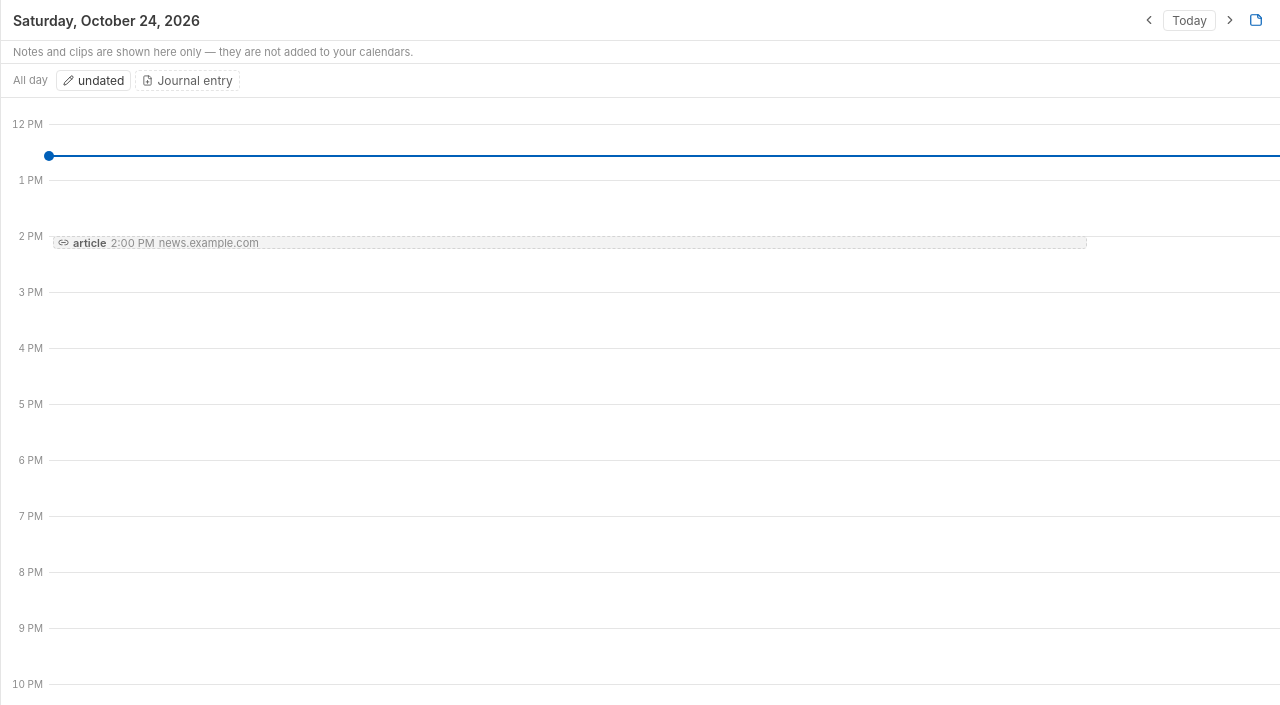
Scenario: DayTimeline note & clip markers › shows the local-only legend and toggles markers off and on
This screenshot has width=1280, height=705.
(page scrolled)
Check: the text with test id "day-timeline-legend" reads "Notes and clips are shown here only — they are not added to your calendars.", box [13, 45, 414, 59]
Click the button named "Show notes & clips". click: (1256, 20)
box: [1244, 8, 1268, 32]
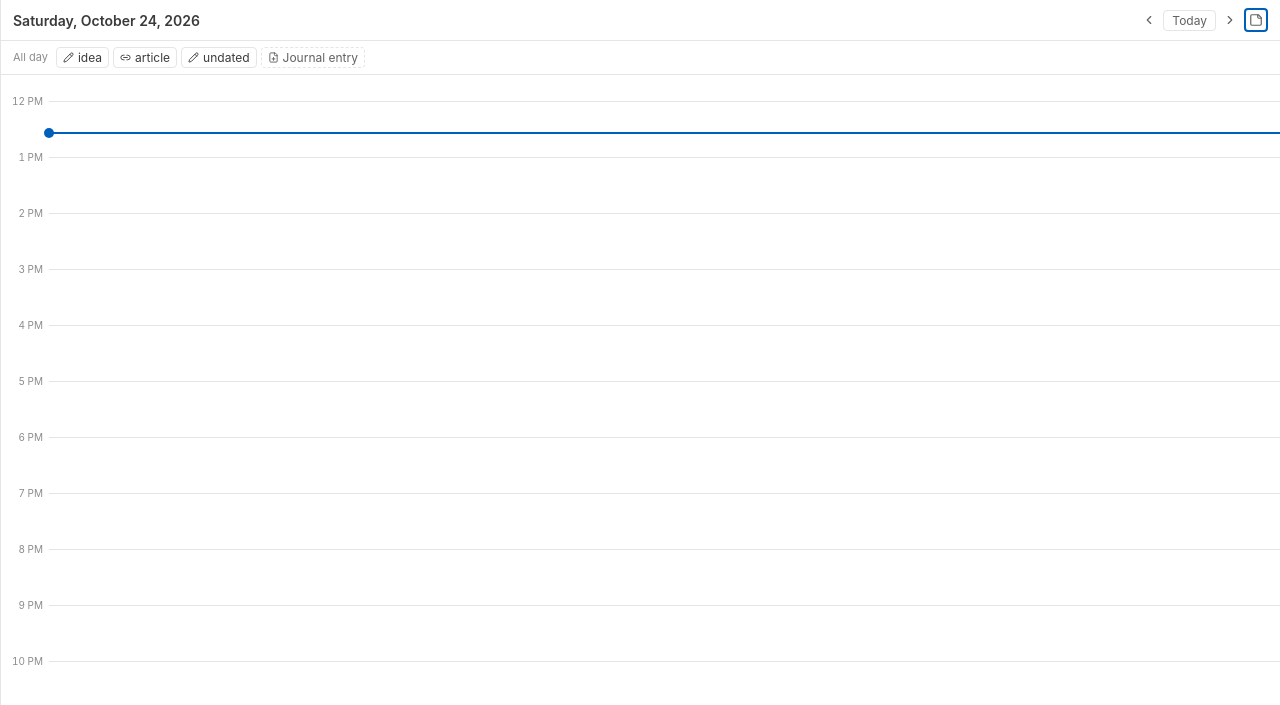
Check: the text with test id "day-timeline-legend" is gone
Check: the button with test id "timeline-note-note:notes/idea.md" is shown, box [56, 47, 109, 68]
Click the button named "Show notes & clips". click: (1256, 20)
box: [1244, 8, 1268, 32]
(page scrolled)
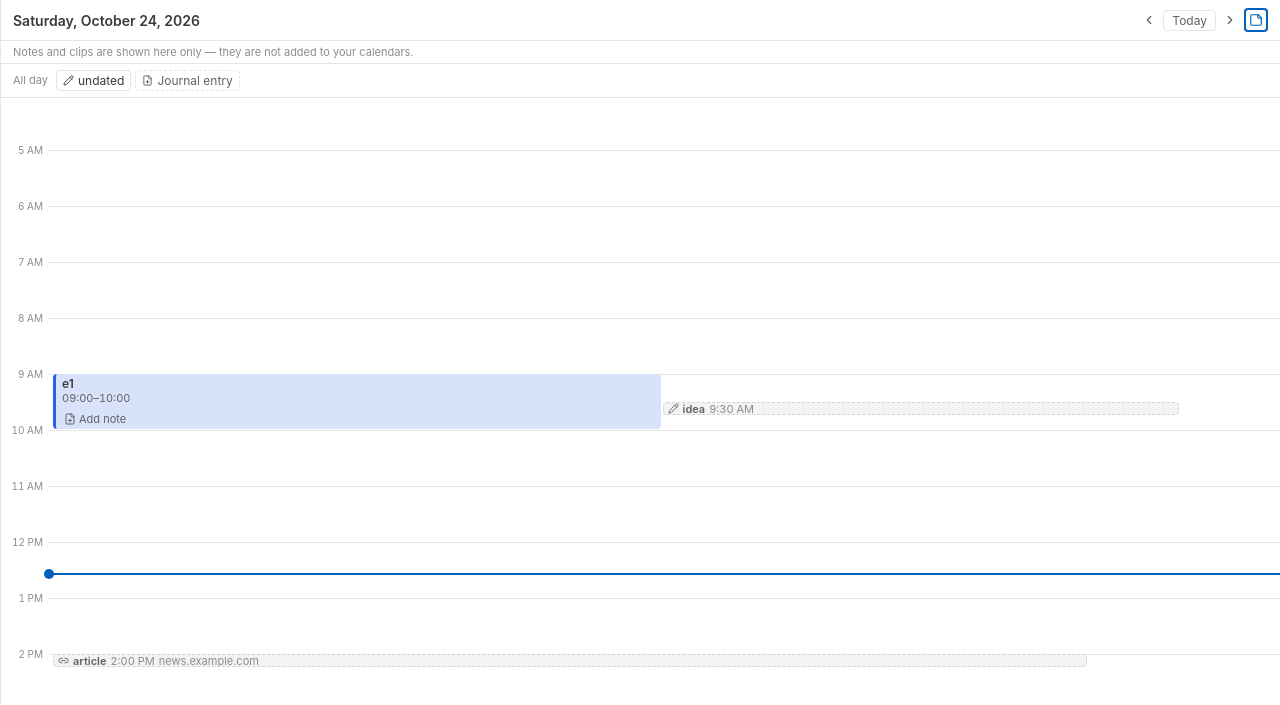
Check: the button with test id "timeline-marker-note:notes/idea.md" is shown, box [662, 402, 1179, 415]
